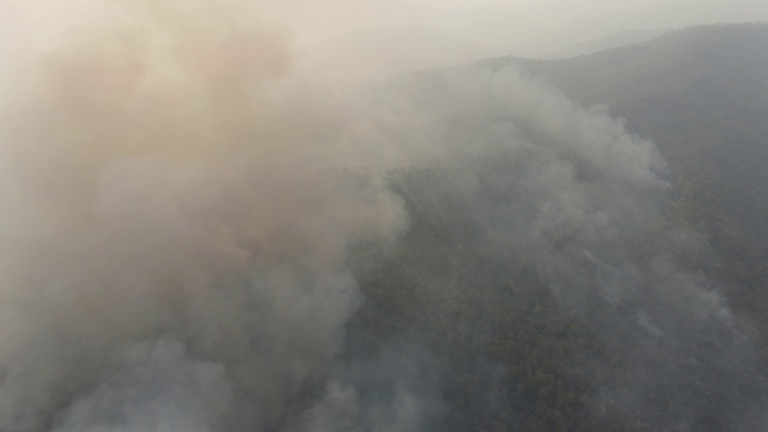smoke: (1, 1, 424, 423), (441, 51, 712, 307)
